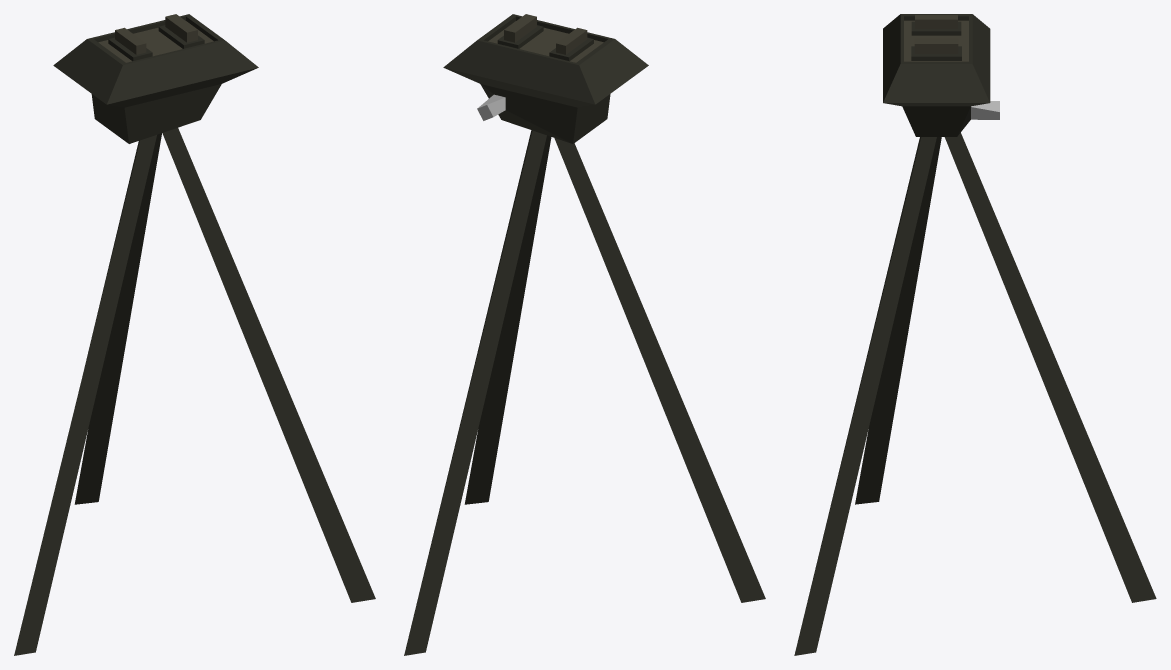
File: survey_tripod.glb
The picture shows the model from 3 angles, left to right: view 1: azimuth 30°, elevation 25°; view 2: azimuth 150°, elevation 25°; view 3: azimuth 270°, elevation 25°; orthographic projection.
Visible parts, largest first — view 1: Cube; view 2: Cube; view 3: Cube.
Boxes of the visible parts, x1,y1,x2,y2 form: Cube: (14, 14, 375, 655); Cube: (404, 14, 765, 655); Cube: (794, 14, 1156, 655).
Bounding box in the file's own units: 0.5316 × 0.8529 × 0.5052.
1 material, 1 textured.
